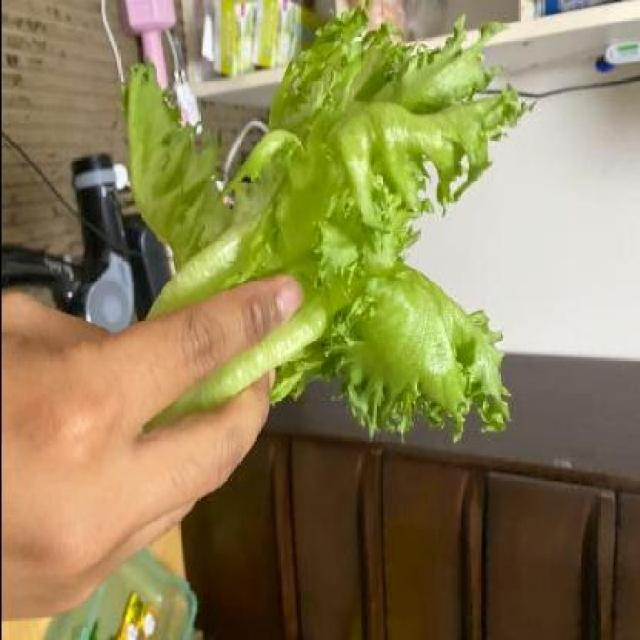Lettuce: (121, 4, 535, 446)
